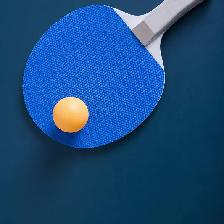YellowBall: (52, 96, 89, 132)
